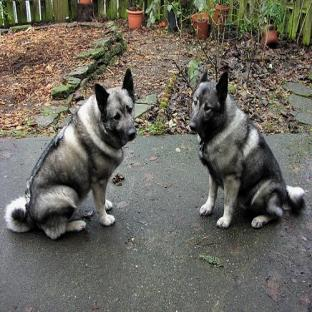Animal: (4, 69, 135, 239), (189, 69, 305, 228)
